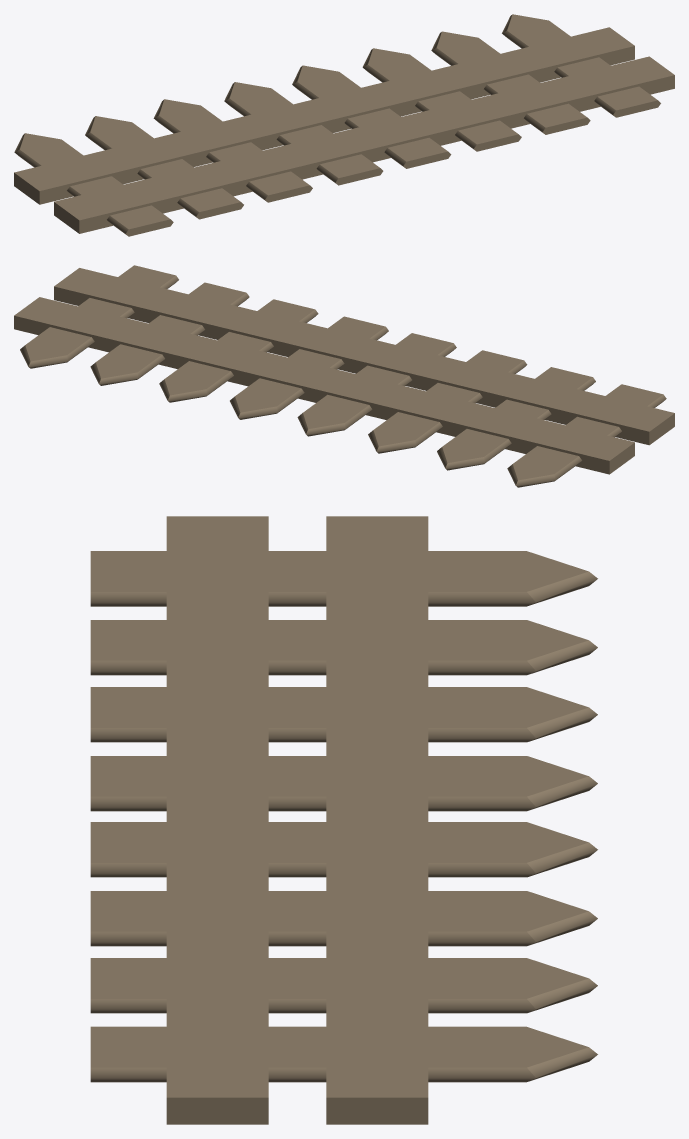
The model's file is saku.fbx.
3 views of the same model, one above another, from view 1: azimuth 30°, elevation 25°; view 2: azimuth 150°, elevation 25°; view 3: azimuth 270°, elevation 25° (orthographic). The views are drawn at different scales.
Parts seen in each view (by area): view 1: pPlane11; view 2: pPlane11; view 3: pPlane11.
Boxes of the visible parts, x1,y1,x2,y2 form: pPlane11: [14, 14, 674, 236]; pPlane11: [14, 265, 674, 487]; pPlane11: [90, 516, 597, 1124].
Bounding box in the file's own units: 8.67 × 0.1892 × 3.2.
